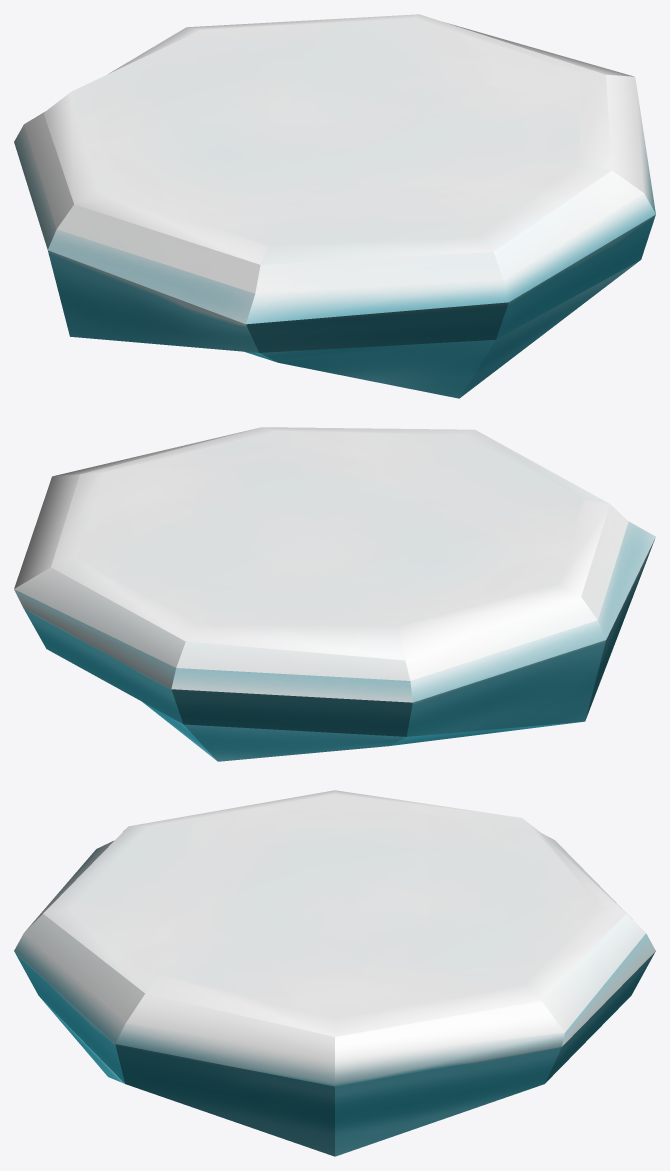
The model's file is FloatingIce.fbx.
3 renders of one model, top to bottom at view 1: azimuth 30°, elevation 25°; view 2: azimuth 150°, elevation 25°; view 3: azimuth 270°, elevation 25°, orthographic. The views are drawn at different scales.
Parts seen in each view (by area): view 1: Floating_Ice; view 2: Floating_Ice; view 3: Floating_Ice.
Boxes of the visible parts, x1,y1,x2,y2 form: Floating_Ice: [14, 14, 655, 398]; Floating_Ice: [14, 427, 655, 761]; Floating_Ice: [14, 790, 655, 1156].
Size of the model in its own units: 1508 by 567 by 1500.
